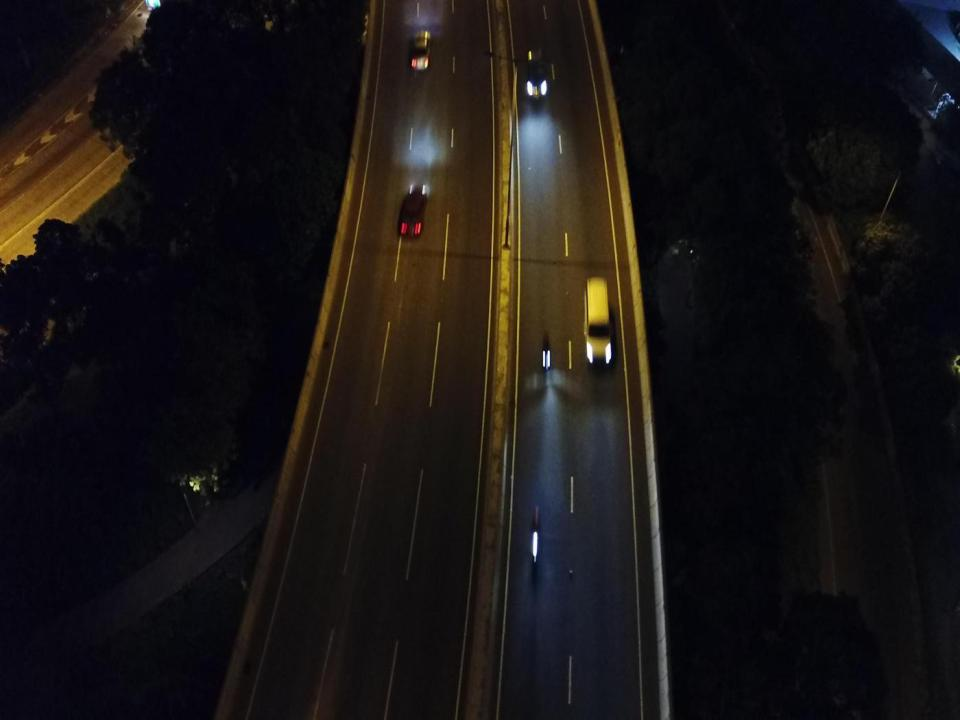car: (398, 182, 427, 238), (525, 48, 547, 100), (409, 30, 431, 72)
van: (584, 277, 613, 365)
